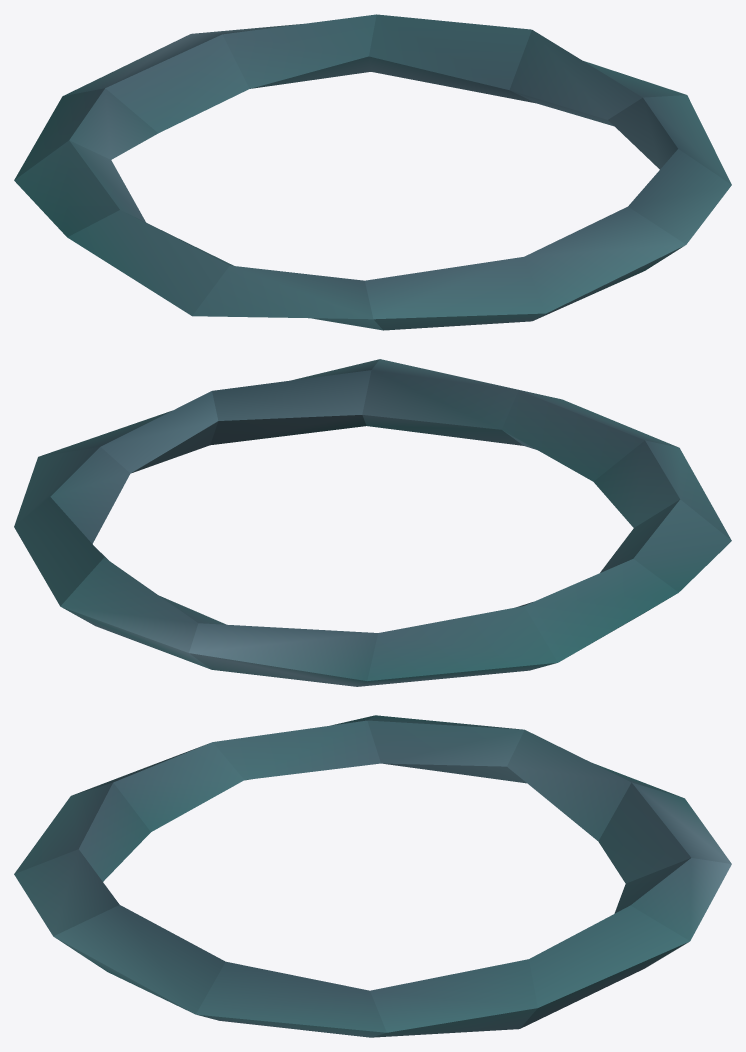
The model's file is Generic_Planets_Ring_03.fbx.
The picture shows the model from 3 angles, top to bottom: view 1: azimuth 30°, elevation 25°; view 2: azimuth 150°, elevation 25°; view 3: azimuth 270°, elevation 25°; orthographic projection. The views are drawn at different scales.
Visible parts, largest first — view 1: Ring_03; view 2: Ring_03; view 3: Ring_03.
Part boxes in pixels (x1,y1,x2,y2): Ring_03: [14, 14, 731, 330]; Ring_03: [14, 359, 731, 686]; Ring_03: [14, 715, 731, 1037].
Bounding box in the file's own units: 36.19 × 4.13 × 36.23.
